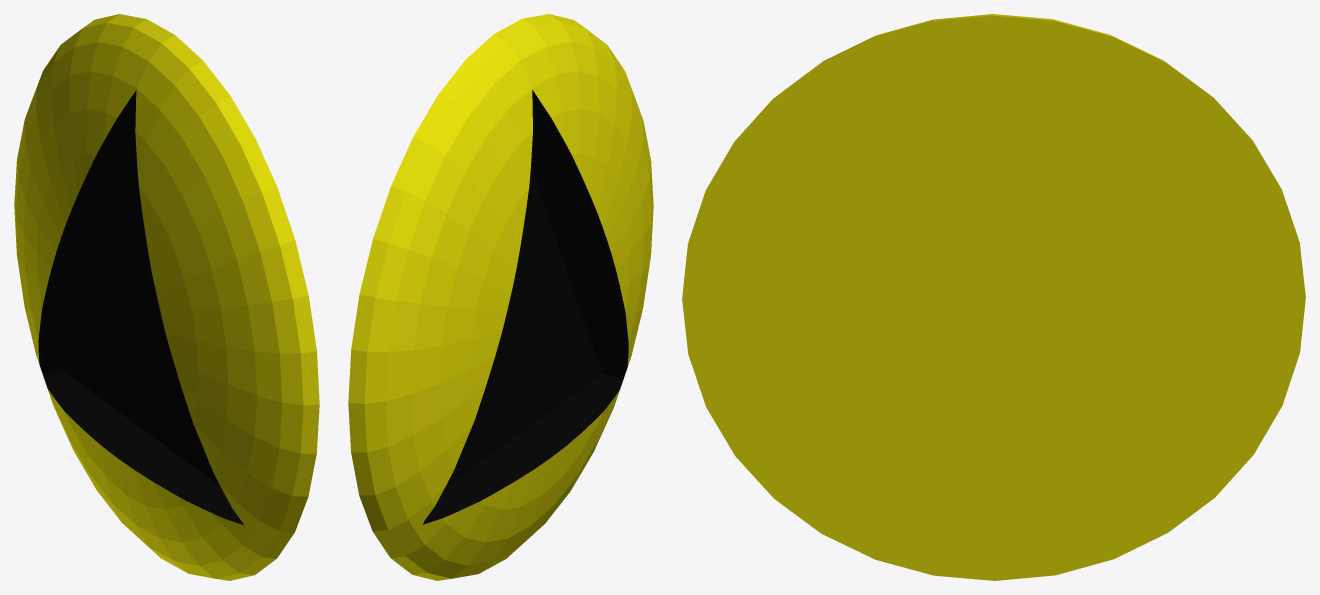
Rendered from NoteFlat.gltf.
The picture shows the model from 3 angles, left to right: view 1: azimuth 30°, elevation 25°; view 2: azimuth 150°, elevation 25°; view 3: azimuth 270°, elevation 25°; orthographic projection. The views are drawn at different scales.
Visible parts, largest first — view 1: Sphere; view 2: Sphere; view 3: Sphere.
Boxes of the visible parts, x1=… form: Sphere: x1=14, y1=14, x2=319, y2=580; Sphere: x1=348, y1=14, x2=653, y2=580; Sphere: x1=682, y1=14, x2=1305, y2=580.
Size of the model in its own units: 0.2543 by 2 by 2.
